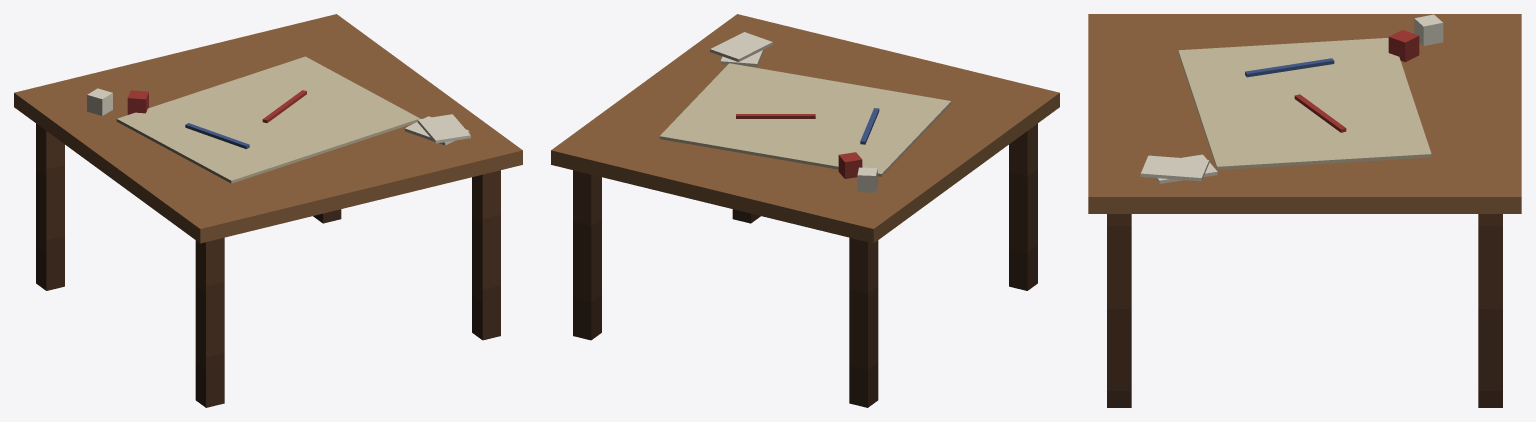
File: game_table.glb
The picture shows the model from 3 angles, left to right: view 1: azimuth 30°, elevation 25°; view 2: azimuth 150°, elevation 25°; view 3: azimuth 270°, elevation 25°; orthographic projection. The views are drawn at different scales.
Size of the model in its own units: 1.4 by 0.85 by 1.4.
1 material, 1 textured.
